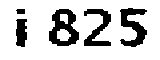2: (84, 6, 112, 51)
5: (120, 6, 150, 50)
8: (47, 8, 78, 48)
i: (12, 6, 35, 50)
